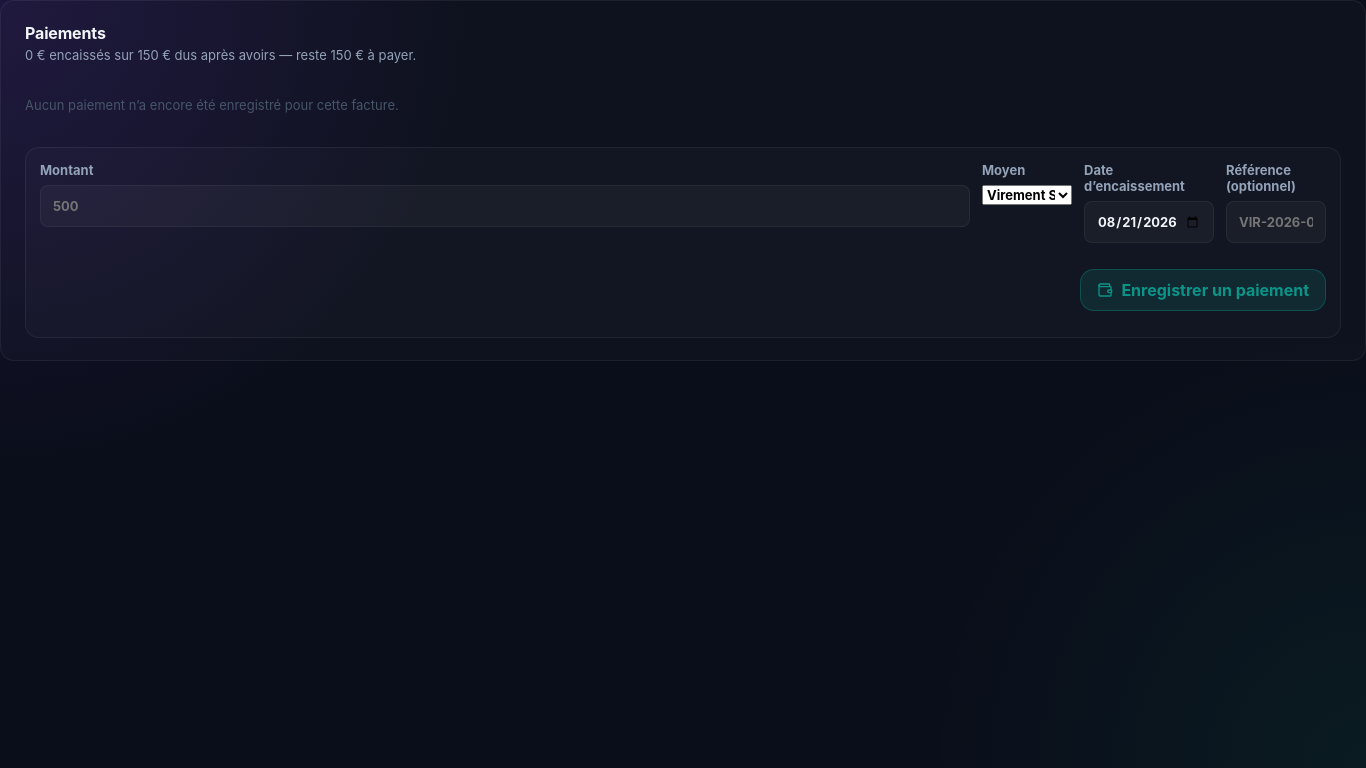
Test: InvoicePaymentsSection — formulaire d'enregistrement (cible 5) › refuse la soumission sans montant renseigné (cas négatif) et n'appelle jamais l'API
The image size is (1366, 768).
Check: the text "Aucun paiement n’a encore été enregistré pour cette facture." is shown, box [25,97,399,113]
Click the button "Enregistrer un paiement": (1203, 290) [1080,269,1326,311]
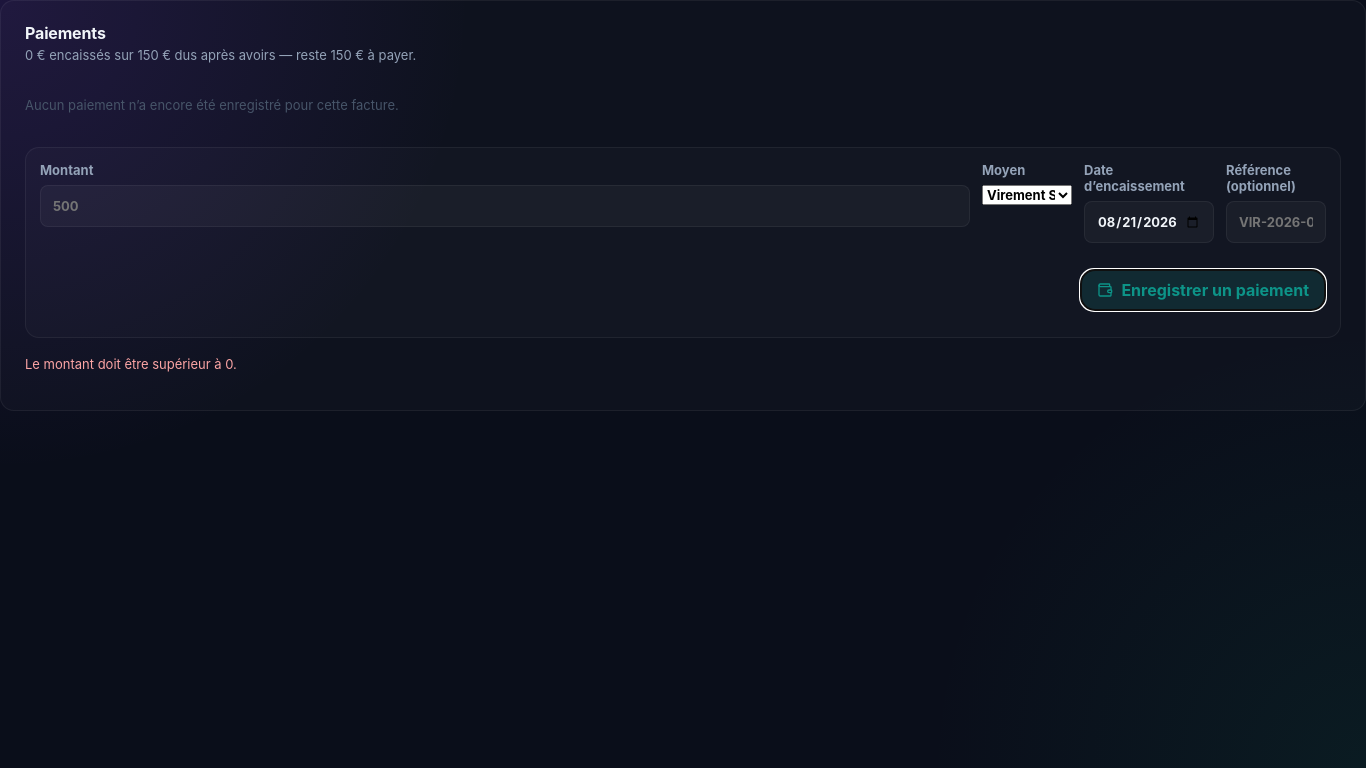
Check: the text "Le montant doit être supérieur à 0." is shown, box [25,356,237,372]
